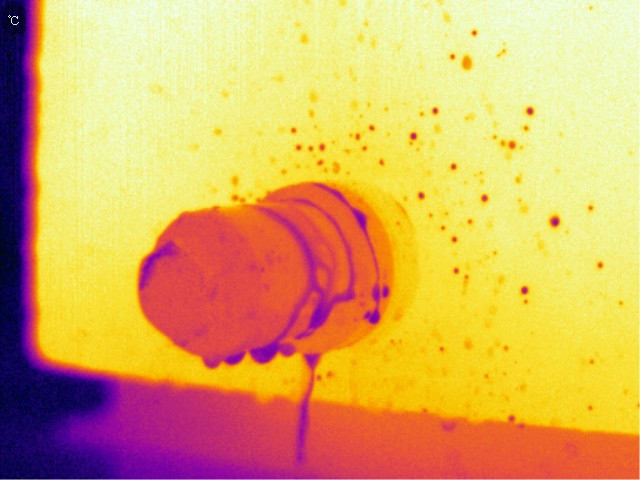Water: (241, 174, 428, 342), (310, 180, 382, 237), (293, 351, 321, 473), (363, 273, 401, 330), (430, 406, 466, 439), (200, 350, 245, 369), (250, 341, 276, 368), (543, 211, 564, 240), (293, 140, 334, 153), (517, 281, 536, 308), (280, 343, 296, 361), (405, 128, 421, 146), (475, 190, 491, 206), (285, 122, 300, 134)
